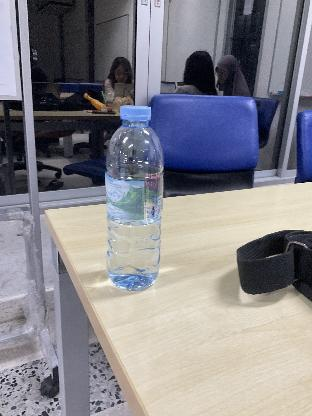Plastic Bottle: (98, 102, 181, 298)
